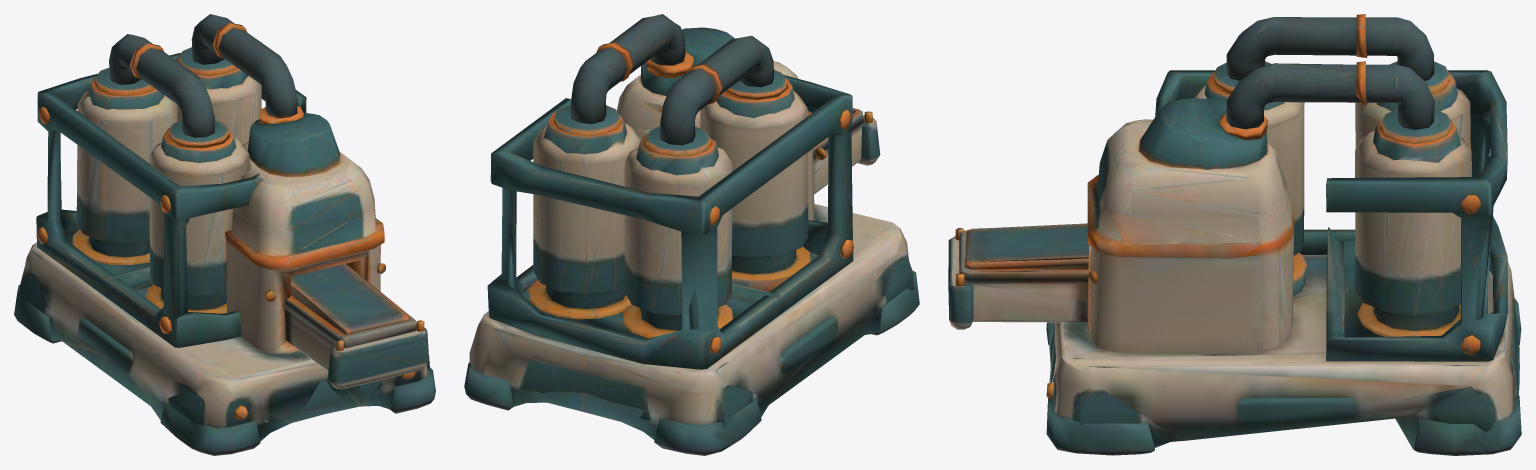
The model's file is refinery-lod0.932c17cee3b9.glb.
3 renders of one model, left to right at view 1: azimuth 30°, elevation 25°; view 2: azimuth 150°, elevation 25°; view 3: azimuth 270°, elevation 25°, orthographic. The views are drawn at different scales.
Parts seen in each view (by area): view 1: geometry_0; view 2: geometry_0; view 3: geometry_0.
Boxes of the visible parts, box(x1,y1,x2,y2) form: geometry_0: box(14, 14, 435, 455); geometry_0: box(464, 14, 919, 455); geometry_0: box(948, 14, 1521, 455).
Size of the model in its own units: 0.5747 by 0.6733 by 1.
Materials: 1 (1 with a texture image).
